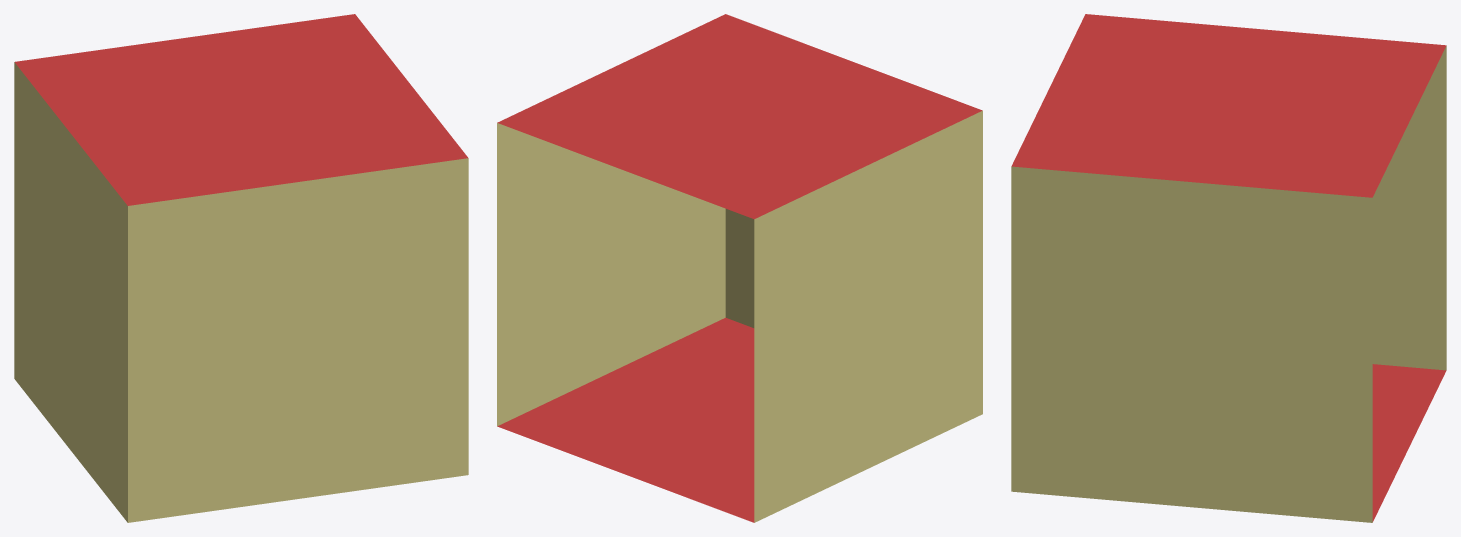
3 renders of one model, left to right at view 1: azimuth 30°, elevation 25°; view 2: azimuth 150°, elevation 25°; view 3: azimuth 270°, elevation 25°, orthographic. The views are drawn at different scales.
Bounding box in the file's own units: 6.7 × 6.7 × 5.53.
